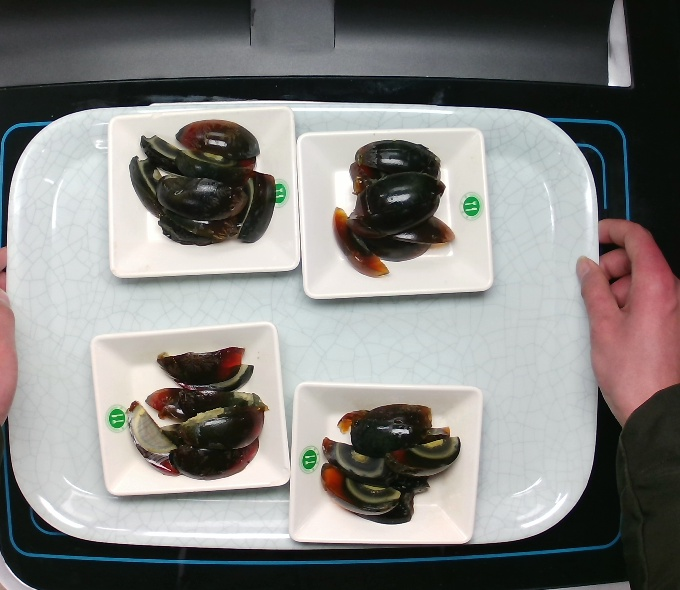wcq-PiDan: (114, 340, 275, 480), (121, 116, 282, 250), (309, 391, 462, 532), (321, 137, 465, 285)
